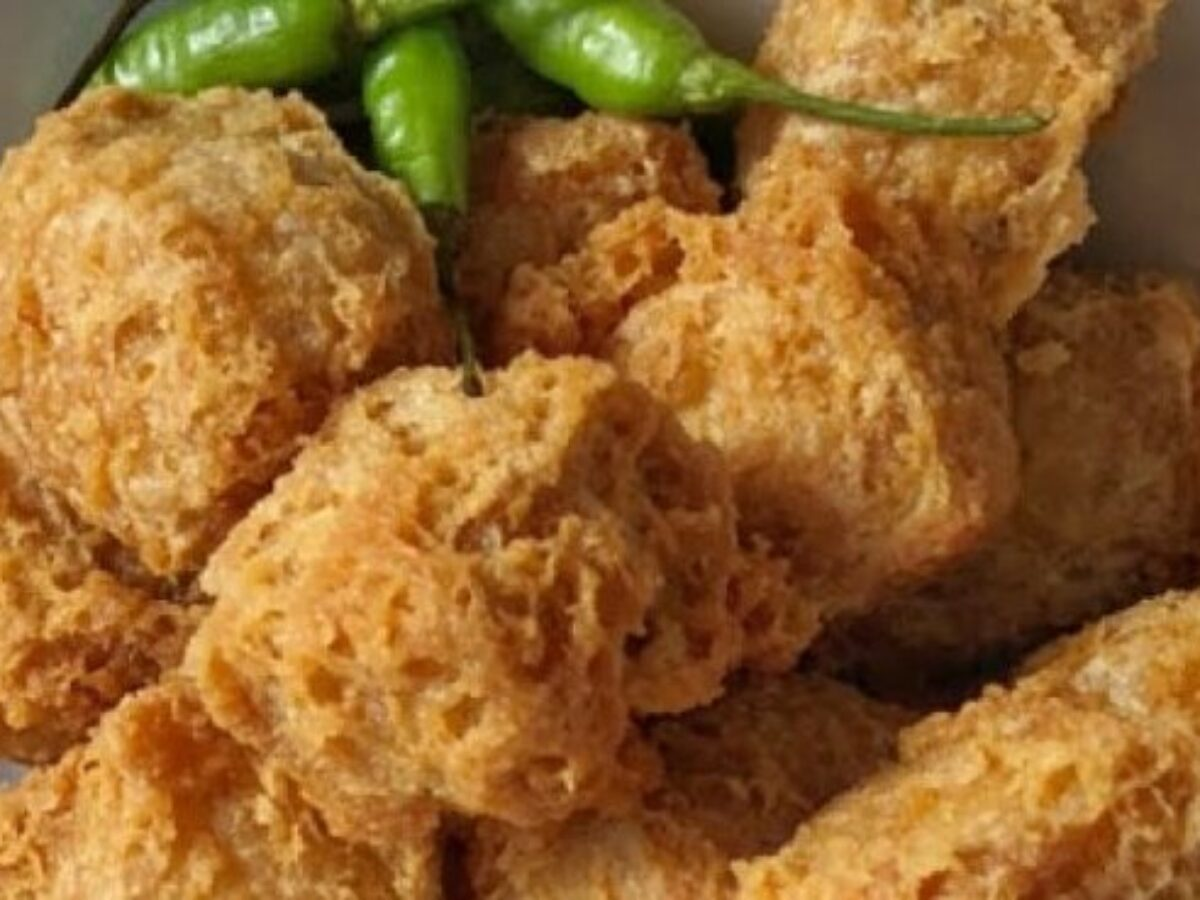Tahu: (244, 365, 675, 791), (33, 123, 408, 568), (597, 251, 960, 586)
